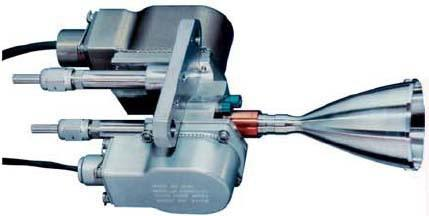thruster: (295, 78, 426, 172)
